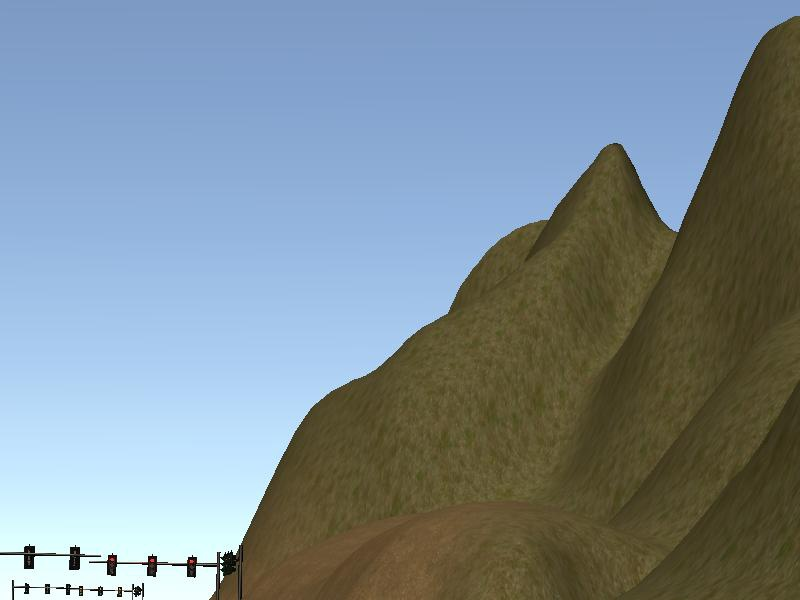Red: (106, 553, 117, 576), (146, 554, 157, 577), (186, 555, 197, 578)
